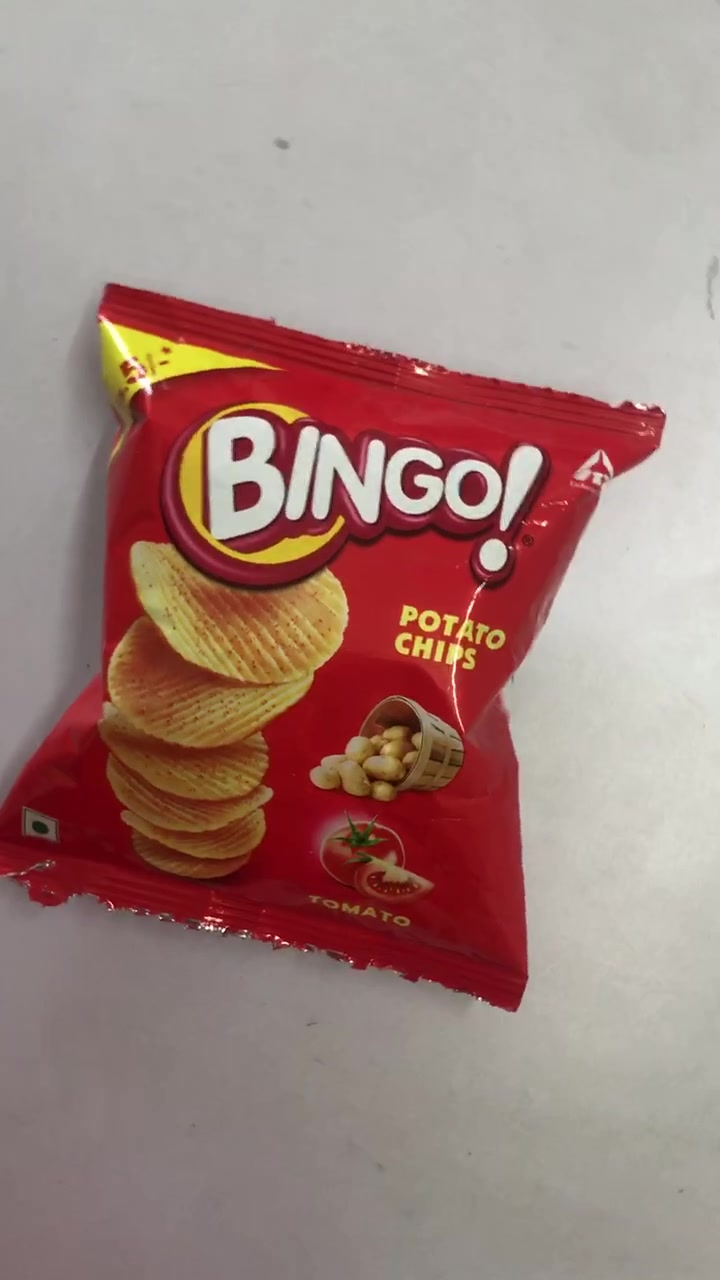Bingo: (6, 281, 670, 1003)
